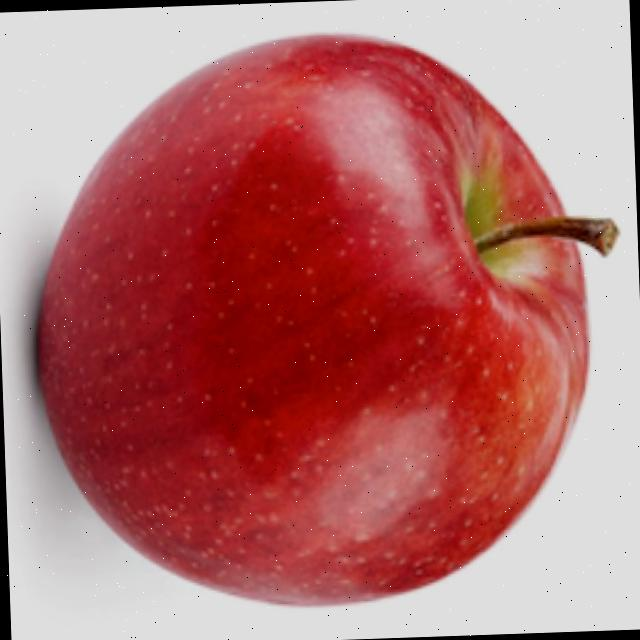Ripe: (18, 19, 604, 622)
